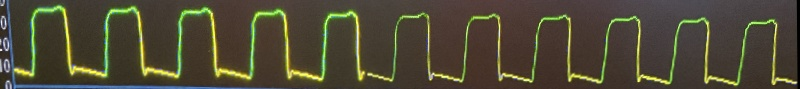normal_pressure: (12, 6, 800, 88)
